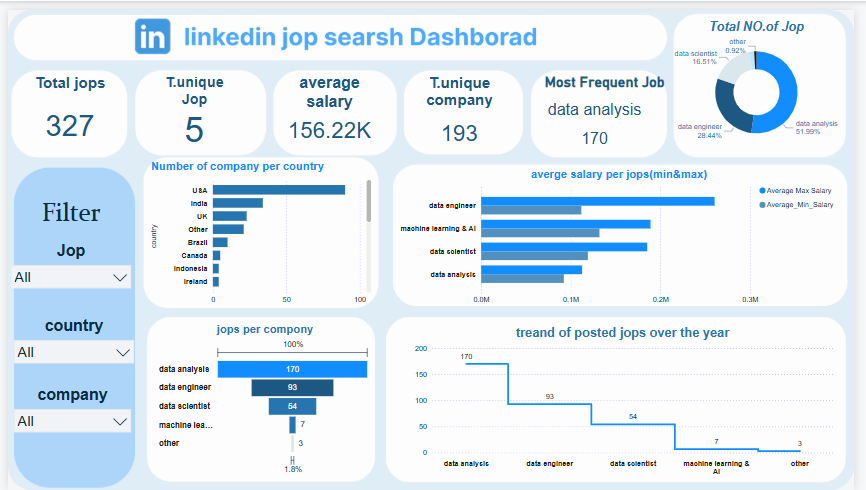

This screenshot's page, from the dashboard's own definition file:
{"tool":"powerbi","page":{"name":"Page 1","canvas":[1411,801],"ordinal":0},"visuals":[{"type":"clusteredBarChart","title":"Number of company per country","fields":{"Category":["clean_jobs (2).country"],"Y":["Count(clean_jobs (2).company)"]},"box":[228.3,240,386.7,263.3],"z":0},{"type":"donutChart","title":"Total NO.of Jop ","fields":{"Category":["clean_jobs (2).cleaned_category"],"Y":["CountNonNull(clean_jobs (2).cleaned_category)"]},"box":[1100,6.7,295,233.3],"z":1000},{"type":"funnel","title":"jops per compony","fields":{"Category":["clean_jobs (2).country","clean_jobs (2).jops"],"Y":["CountNonNull(clean_jobs (2).country)"]},"box":[241.7,511.7,373.3,273.3],"z":2000},{"type":"card","title":"Total jops ","fields":{"Values":["CountNonNull(clean_jobs (2).jops)"]},"box":[36,106,134,134],"z":3000},{"type":"card","title":"T.unique Jop","fields":{"Values":["Count(clean_jobs (2).jops)"]},"box":[241.7,106.7,138.3,120],"z":4000},{"type":"card","title":"average salary","fields":{"Values":["Avg(clean_jobs (2).max_salary)"]},"box":[456.7,106.7,158.3,120],"z":5000},{"type":"card","fields":{"Values":["clean_jobs (2).Most Frequent Job Count"]},"box":[895,138.3,165,150],"z":6000},{"type":"textbox","box":[876.7,106.7,241.7,160],"z":7000},{"type":"card","title":"T.unique company","fields":{"Values":["clean_jobs (2).Unique Companies"]},"box":[673.3,106.7,158.3,133.3],"z":8000},{"type":"lineChart","title":"treand of  posted jops over the year ","fields":{"Category":["clean_jobs (2).jops"],"Y":["CountNonNull(clean_jobs (2).date_posted)"]},"box":[653.3,516.7,741.7,273.3],"z":9000},{"type":"clusteredBarChart","title":"averge salary per jops(min&max)","fields":{"Category":["clean_jobs (2).jops"],"Y":["clean_jobs (2).Average Max Salary","clean_jobs (2).Average_Min_Salary"]},"box":[641.7,253.3,753.3,250],"z":10000},{"type":"slicer","title":"Jop","fields":{"Values":["clean_jobs (2).jops"]},"box":[0,386.7,210,130],"z":11000},{"type":"slicer","title":"country","fields":{"Values":["clean_jobs (2).country"]},"box":[5,511.7,210,115],"z":12000},{"type":"slicer","title":"company","fields":{"Values":["clean_jobs (2).company"]},"box":[5,626.7,205,111.7],"z":13000},{"type":"textbox","box":[18.3,310,173.3,61.7],"z":14000},{"type":"card","fields":{"Values":["clean_jobs (2).Most Frequent Job Title"]},"box":[895,90,165,150],"z":15000}]}

Visuals, with their boxes in screenshot pixels (x1, y1, x2, y2), scaled from the page's 1411x801 canvas onto the 866x490 screenshot:
"Number of company per country" clusteredBarChart: x1=140, y1=147, x2=377, y2=308
"Total NO.of Jop " donutChart: x1=675, y1=4, x2=856, y2=147
"jops per compony" funnel: x1=148, y1=313, x2=377, y2=480
"Total jops " card: x1=22, y1=65, x2=104, y2=147
"T.unique Jop" card: x1=148, y1=65, x2=233, y2=139
"average salary" card: x1=280, y1=65, x2=377, y2=139
card - clean_jobs (2).Most Frequent Job Count: x1=549, y1=85, x2=651, y2=176
textbox: x1=538, y1=65, x2=686, y2=163
"T.unique company" card: x1=413, y1=65, x2=510, y2=147
"treand of  posted jops over the year " lineChart: x1=401, y1=316, x2=856, y2=483
"averge salary per jops(min&max)" clusteredBarChart: x1=394, y1=155, x2=856, y2=308
"Jop" slicer: x1=0, y1=237, x2=129, y2=316
"country" slicer: x1=3, y1=313, x2=132, y2=383
"company" slicer: x1=3, y1=383, x2=129, y2=452
textbox: x1=11, y1=190, x2=118, y2=227
card - clean_jobs (2).Most Frequent Job Title: x1=549, y1=55, x2=651, y2=147
